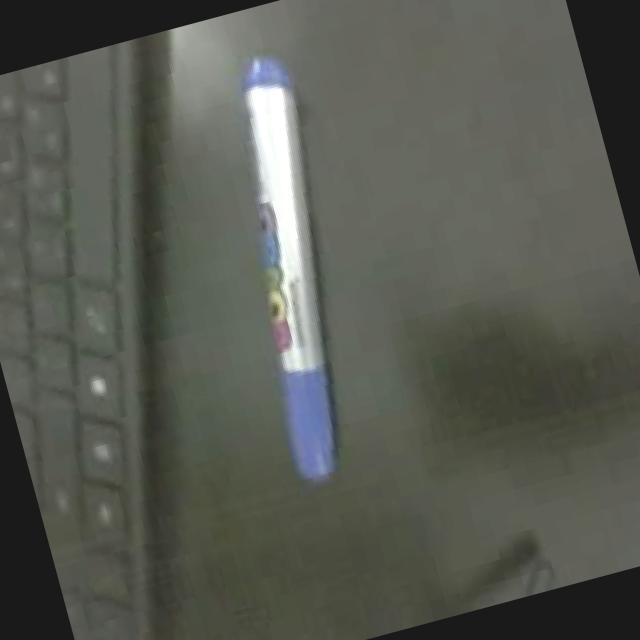board-marker: (242, 55, 335, 478)
